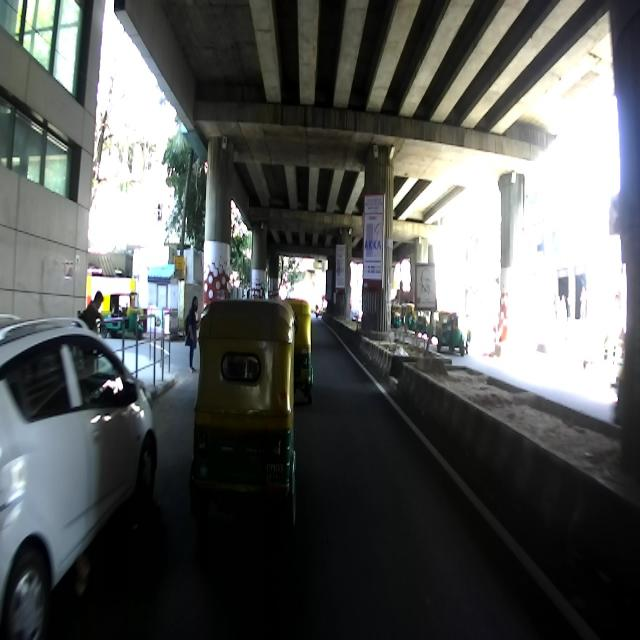autorickshaw: (190, 297, 298, 527)
car: (0, 311, 156, 639)
